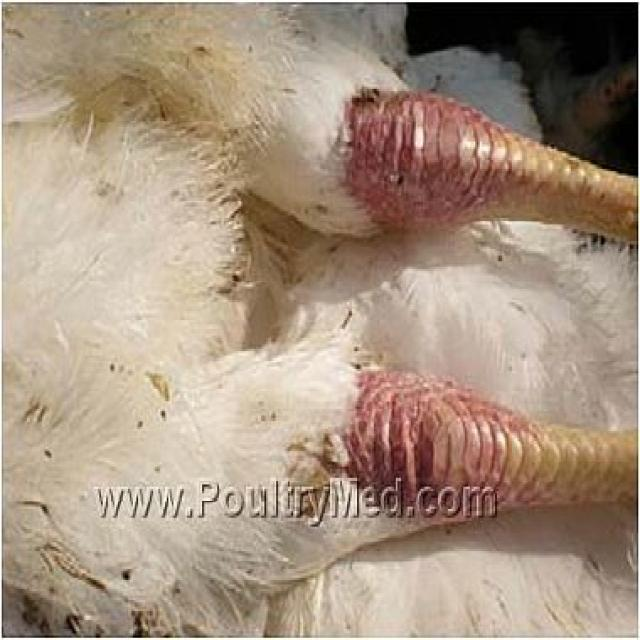Infectios bronchitis: (340, 83, 630, 556)
